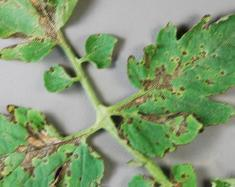Tomato Septoria leaf spot: (118, 0, 235, 159), (0, 98, 109, 187), (0, 0, 91, 67)
